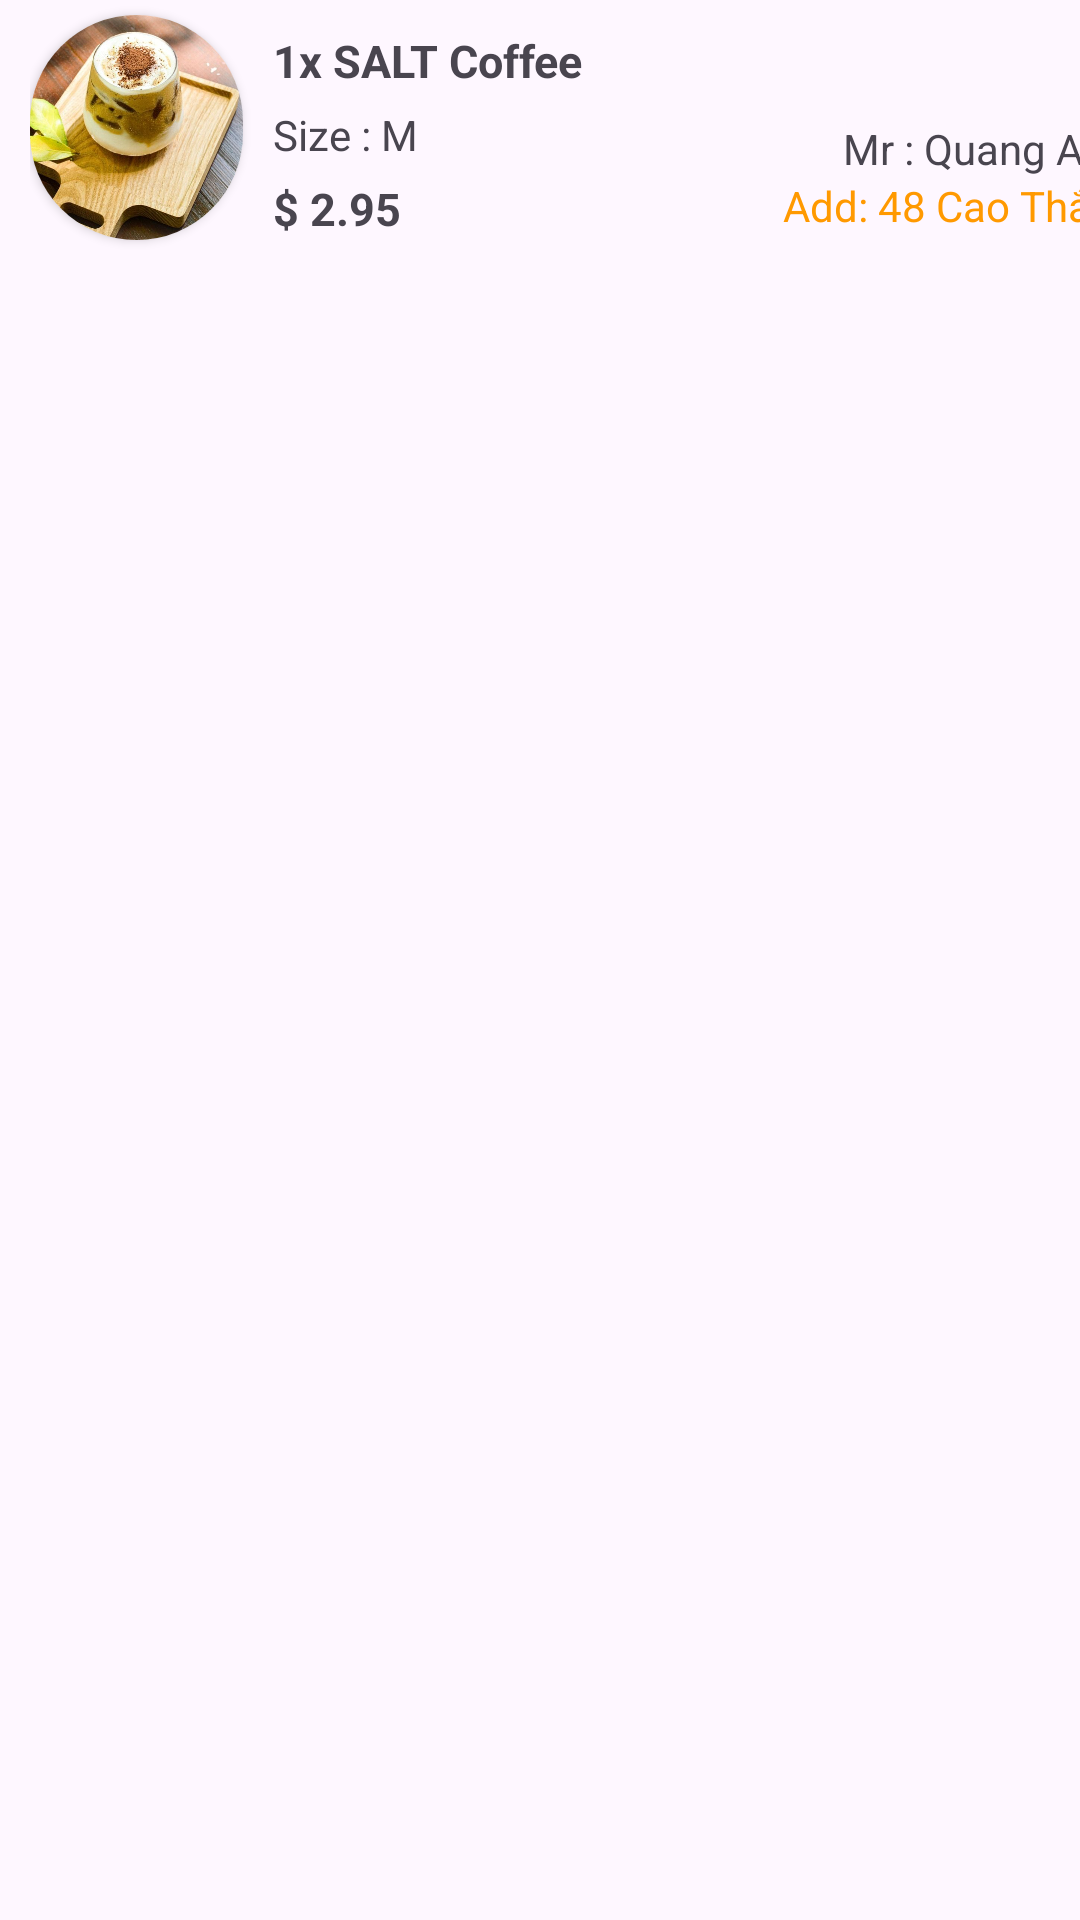

Where to tap for icons on this 1080 × 1920 app screen, as (x=x, y=y):
cafemuoi: (x=136, y=127)
